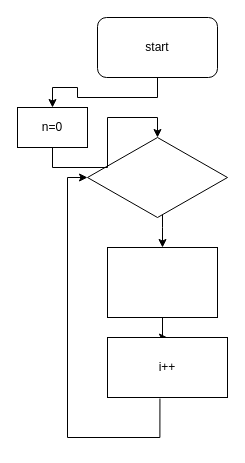
Some shapes in this 245 by 463 pixel diagram are drawn without their labels. Here are the shapes that lost their labels. From the top down, the centre of each, then its label:
the point at 157,177: i<11
the point at 162,282: n+=i
